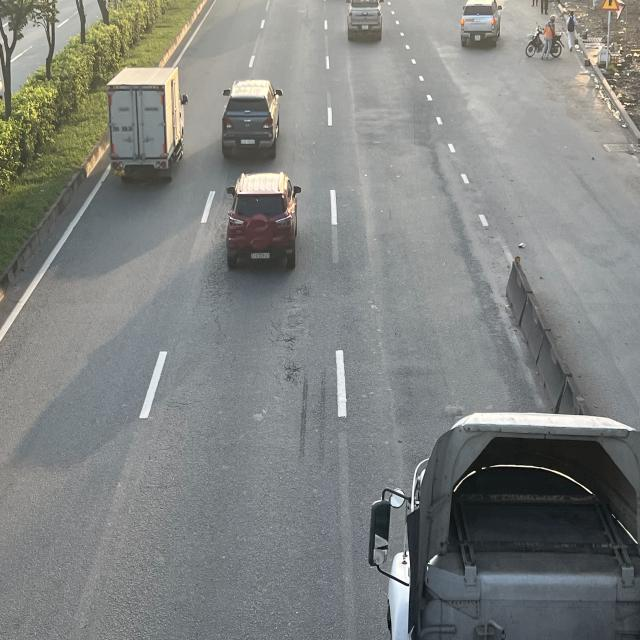car: (224, 173, 299, 272), (218, 78, 281, 158), (460, 0, 505, 45)
truck: (106, 68, 187, 184)
